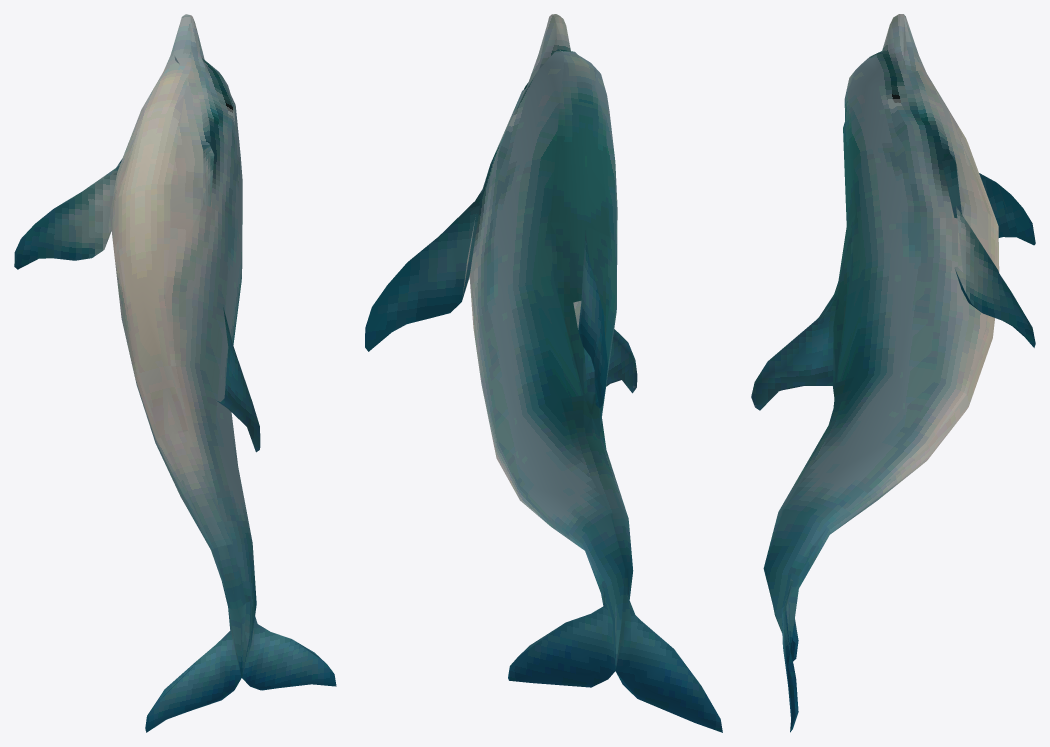
The model's file is ps2_save-icons_eccothedolphindefenderofthefuture.glb.
The picture shows the model from 3 angles, left to right: view 1: azimuth 30°, elevation 25°; view 2: azimuth 150°, elevation 25°; view 3: azimuth 270°, elevation 25°; orthographic projection. The views are drawn at different scales.
Parts seen in each view (by area): view 1: ecco1.ico; view 2: ecco1.ico; view 3: ecco1.ico.
Part boxes in pixels (x1=…): ecco1.ico: x1=14, y1=14, x2=336, y2=732; ecco1.ico: x1=365, y1=14, x2=722, y2=732; ecco1.ico: x1=751, y1=14, x2=1035, y2=732.
Bounding box in the file's own units: 1.56 × 4.58 × 1.76.
1 material, 1 textured.
